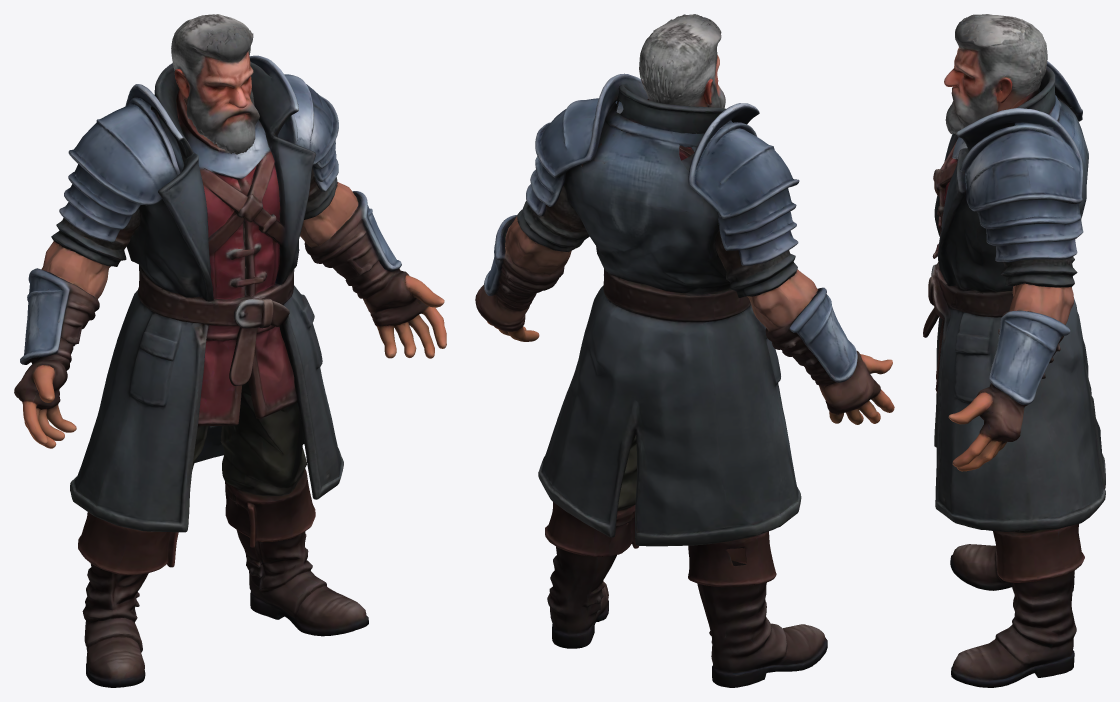
The model's file is model_trellis.glb.
The picture shows the model from 3 angles, left to right: view 1: azimuth 30°, elevation 25°; view 2: azimuth 150°, elevation 25°; view 3: azimuth 270°, elevation 25°; orthographic projection. The views are drawn at different scales.
Visible parts, largest first — view 1: world; view 2: world; view 3: world.
Boxes of the visible parts, <box> form: world: <box>14,14,446,687</box>; world: <box>475,14,894,687</box>; world: <box>923,14,1105,687</box>.
Bounding box in the file's own units: 0.6917 × 1 × 0.2728.
Materials: 1 (1 with a texture image).
